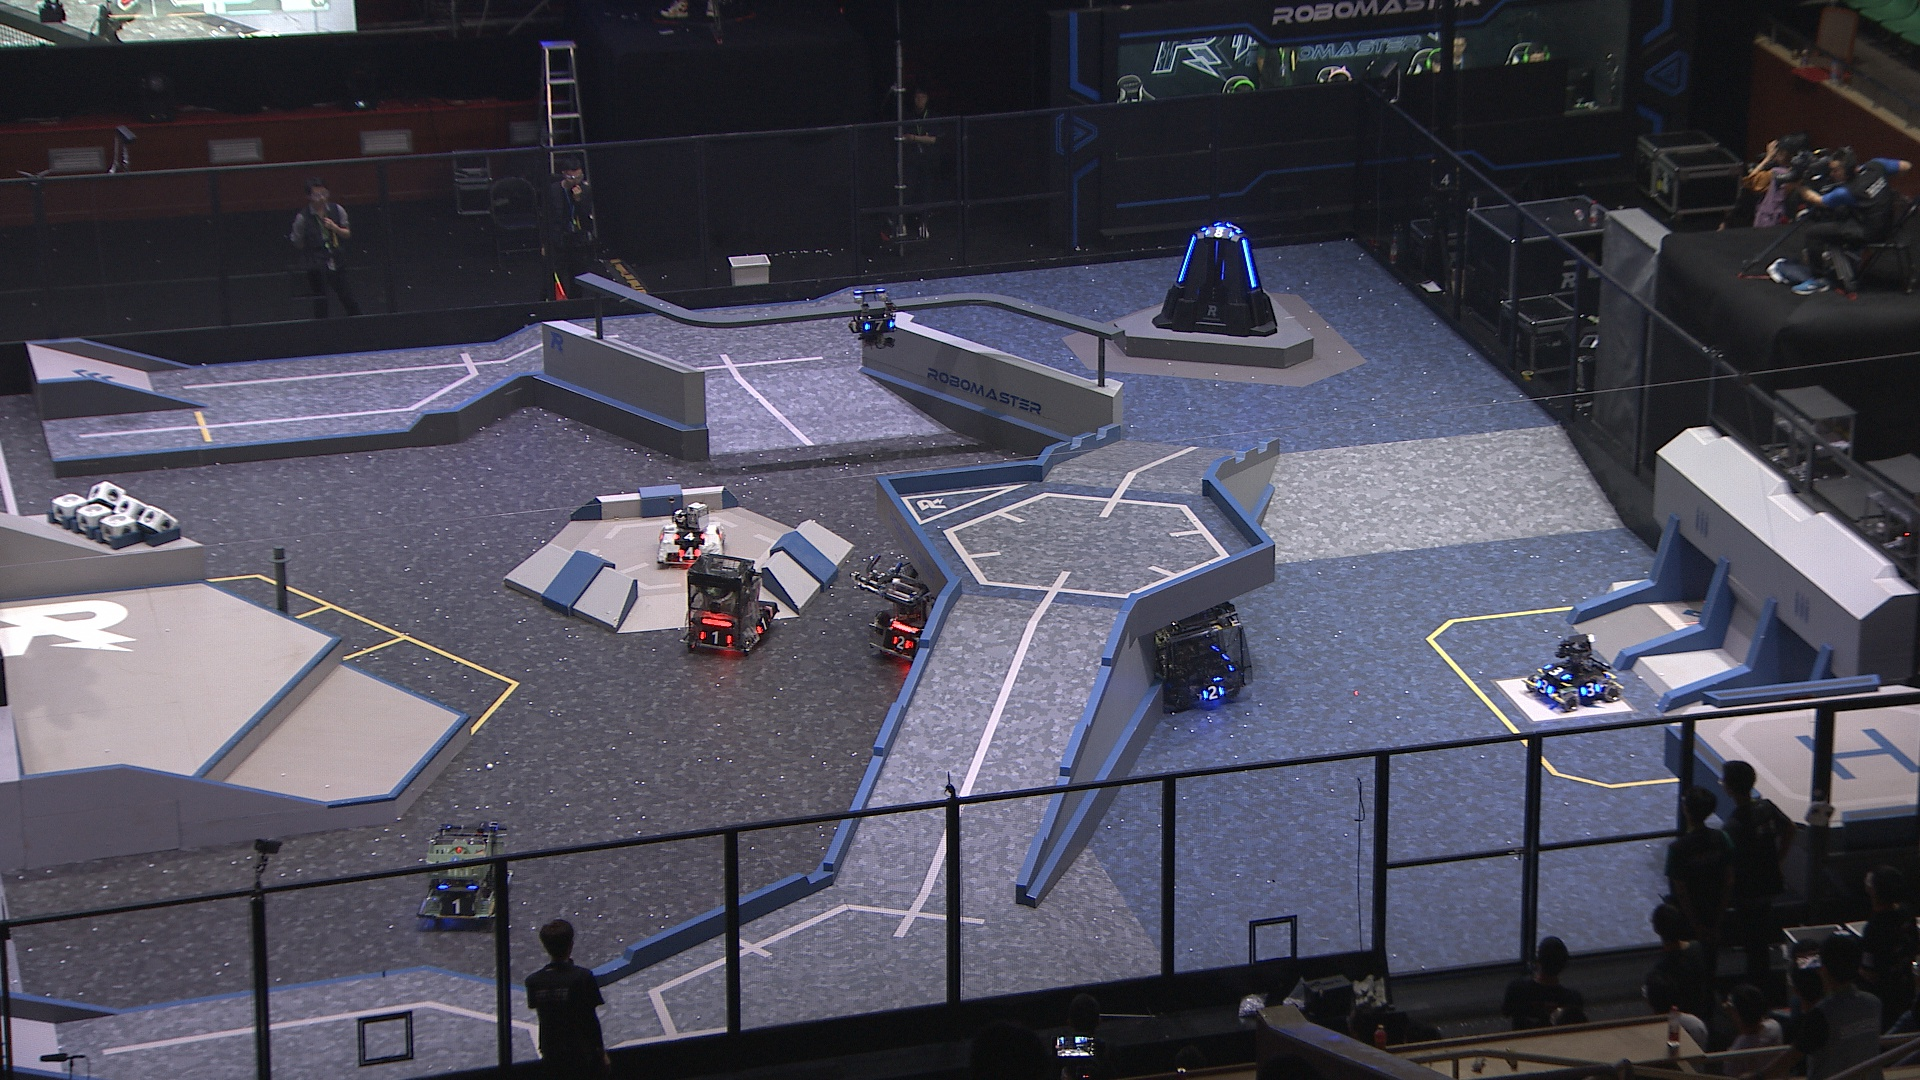armor: (1176, 233, 1196, 287), (1240, 237, 1259, 290), (440, 894, 475, 916), (698, 628, 735, 647), (1542, 661, 1572, 680), (889, 633, 916, 654), (1203, 224, 1237, 240), (861, 318, 894, 334), (1203, 683, 1225, 703), (1532, 679, 1556, 698), (752, 615, 771, 636), (1578, 679, 1600, 698), (676, 546, 702, 560), (673, 531, 707, 542)
base: (1149, 220, 1280, 338)
car: (1143, 597, 1253, 713), (866, 562, 969, 673), (678, 553, 781, 657), (413, 820, 513, 927), (1523, 632, 1621, 713), (654, 502, 724, 570)
watcher: (847, 289, 901, 349)
